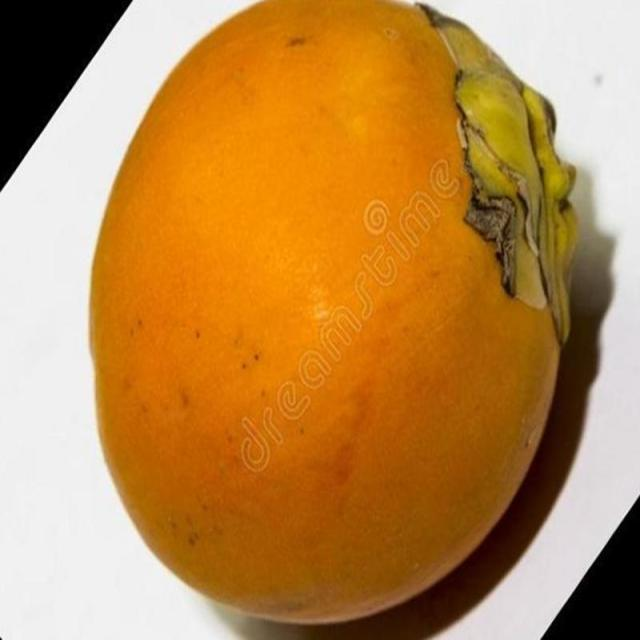good: (86, 0, 581, 629)
